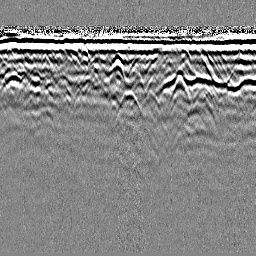cavity: (116, 87, 143, 114)
